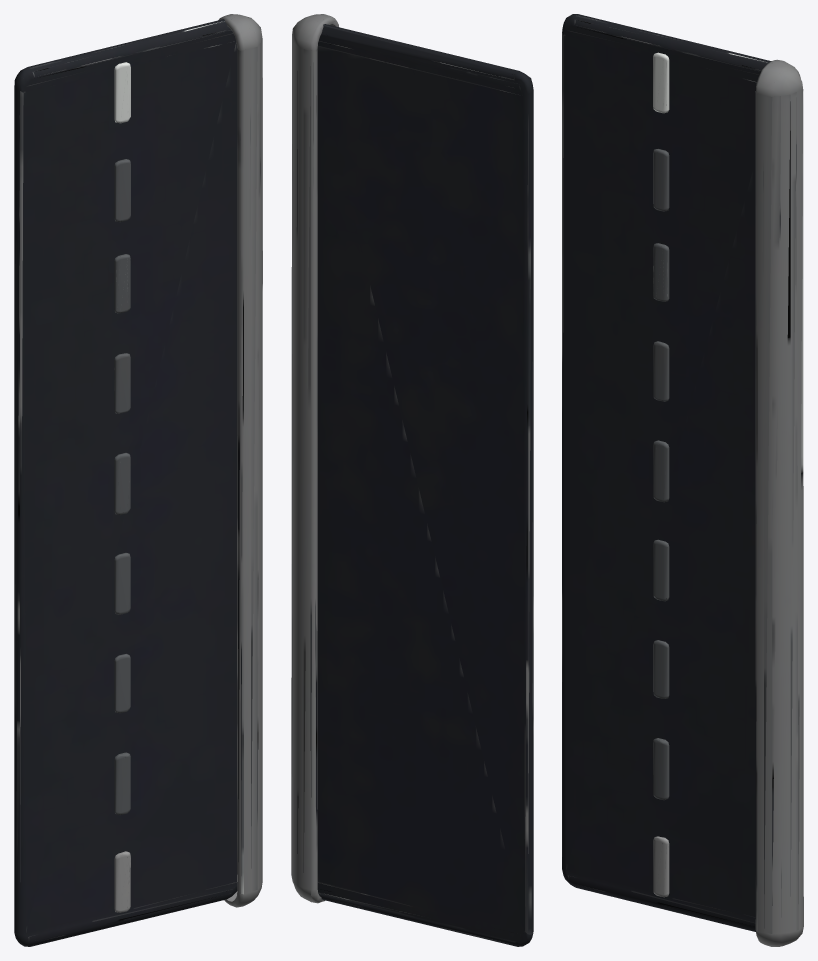
The model's file is Meshy_AI_model.glb.
The picture shows the model from 3 angles, left to right: view 1: azimuth 30°, elevation 25°; view 2: azimuth 150°, elevation 25°; view 3: azimuth 330°, elevation 25°; orthographic projection.
Parts seen in each view (by area): view 1: geometry_0; view 2: geometry_0; view 3: geometry_0.
Part boxes in pixels (box(x1,y1,x2,y2)): geometry_0: box(14, 14, 262, 946); geometry_0: box(291, 14, 533, 946); geometry_0: box(562, 14, 803, 946).
Size of the model in its own units: 0.2725 by 0.9507 by 0.0537.
Materials: 1 (1 with a texture image).
